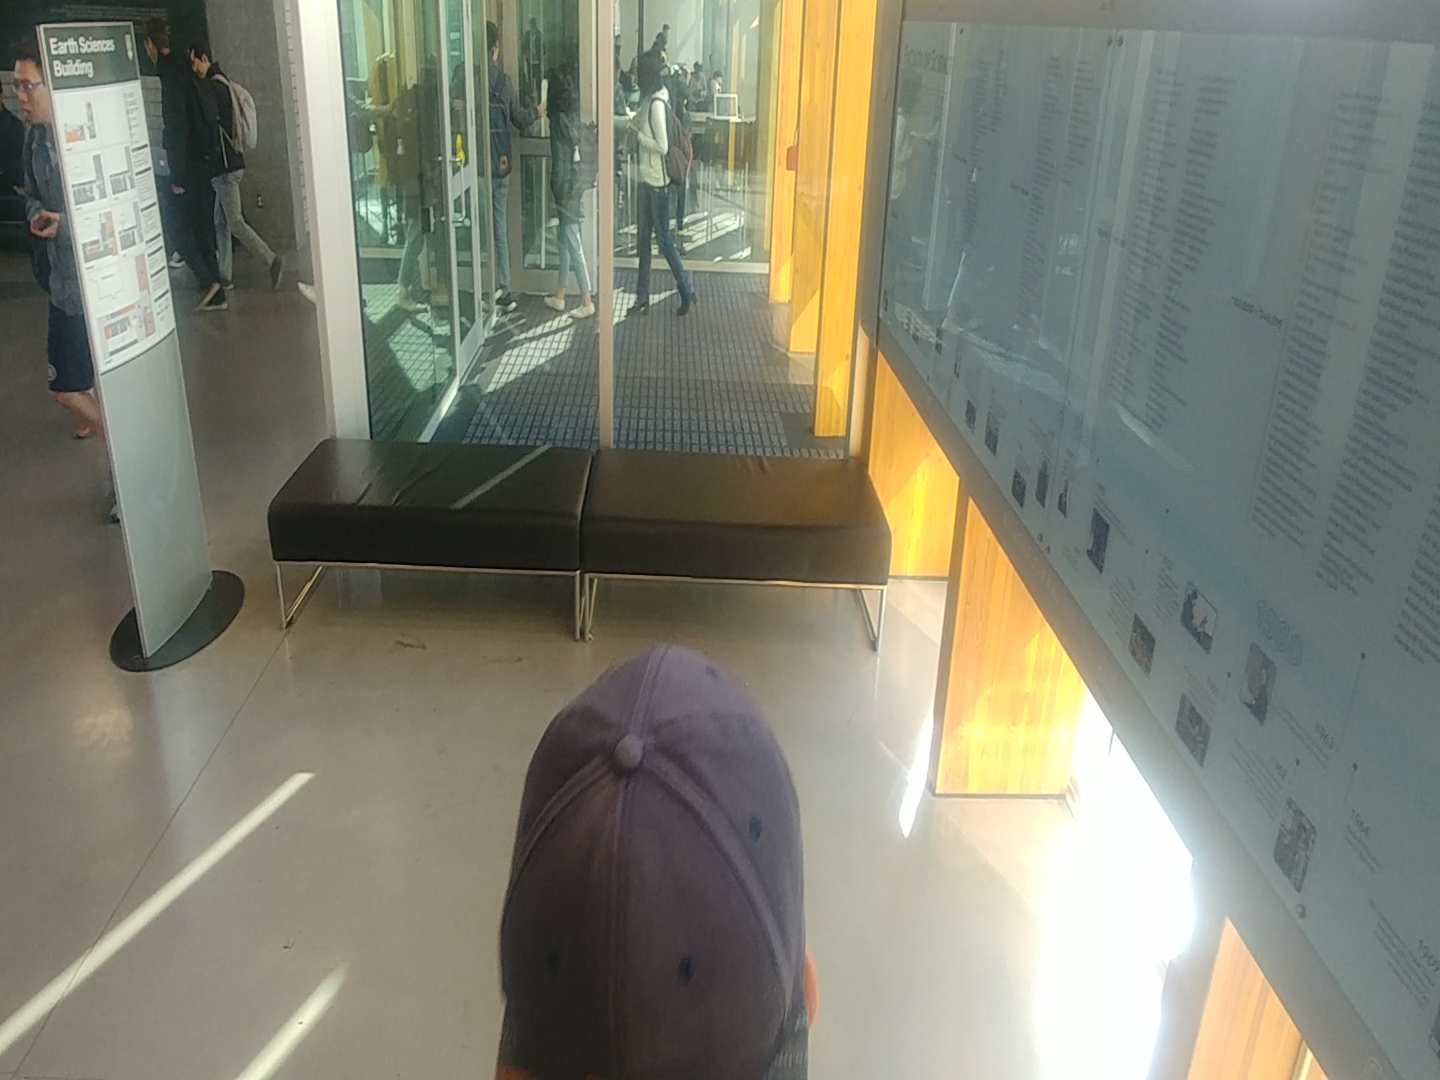face: (0, 45, 61, 129), (132, 11, 187, 71), (534, 60, 584, 126), (625, 40, 669, 108), (180, 31, 227, 82)
human: (188, 30, 293, 301), (138, 21, 235, 314), (617, 39, 702, 341), (530, 46, 604, 335)
